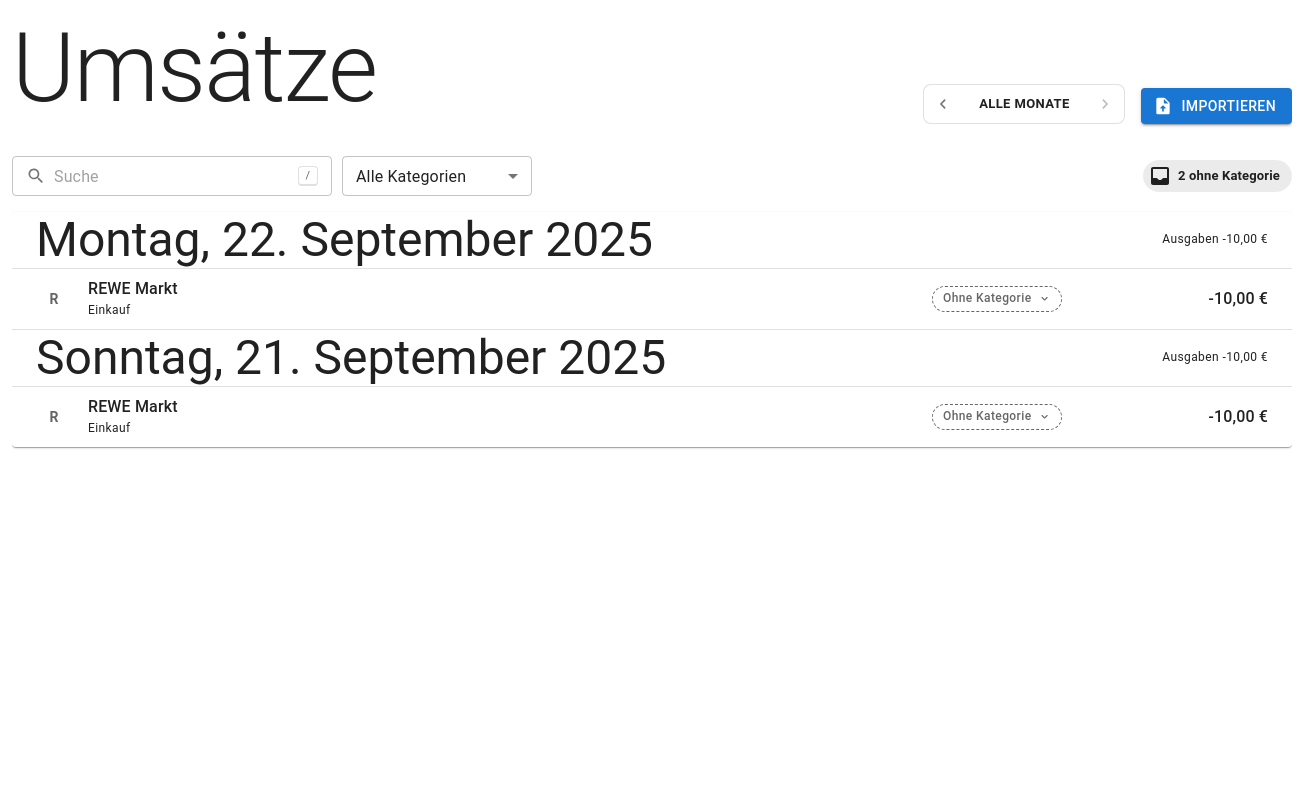
it: TransactionsPage, „Immer so“ › offers the payee as a rule once the pick is saved, then the run it would make
The image size is (1304, 812).
Expected: the dropdown named "Kategorie filtern" is shown, [356,166,466,186]
Click the button with aria-label "Kategorie: Ohne Kategorie": coordinates (997, 299) [932,286,1062,312]
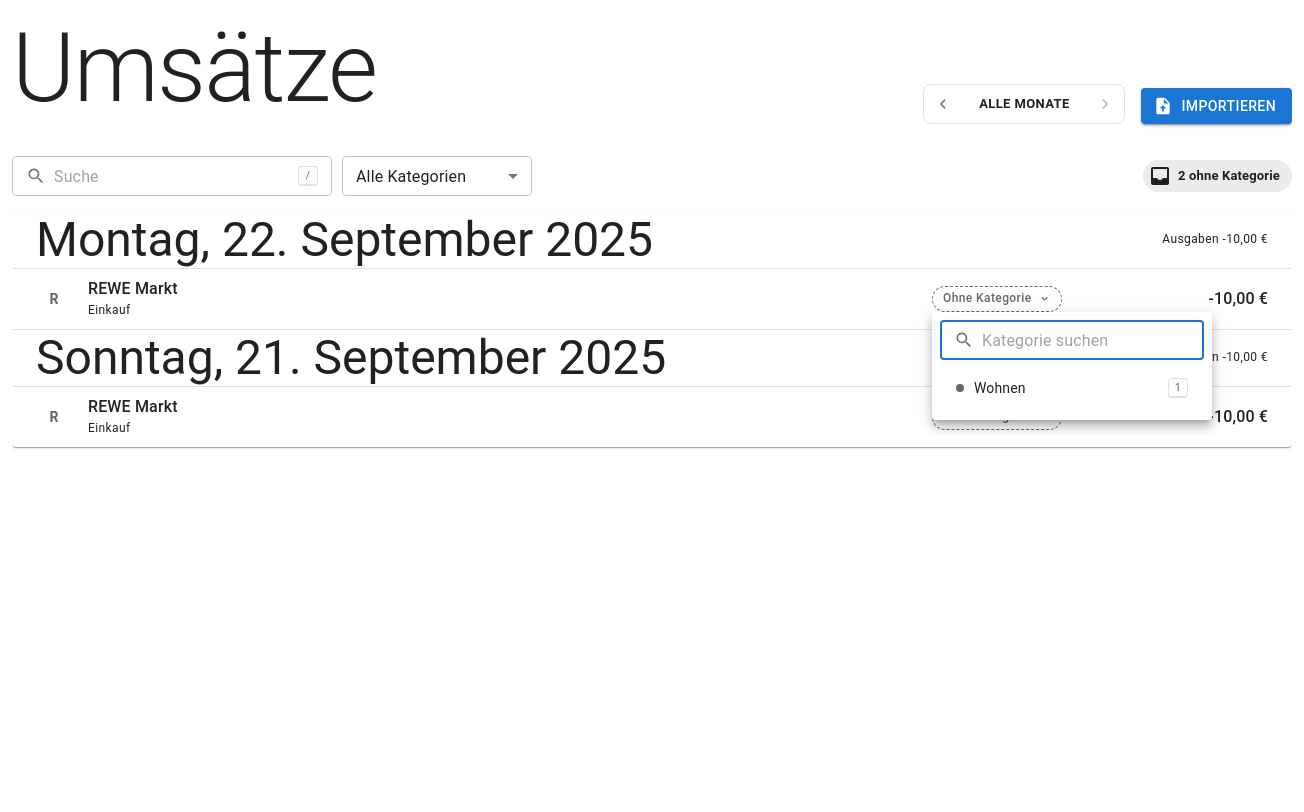
Click the menu item "Wohnen 1": coordinates (1000, 388) [940,372,1204,404]
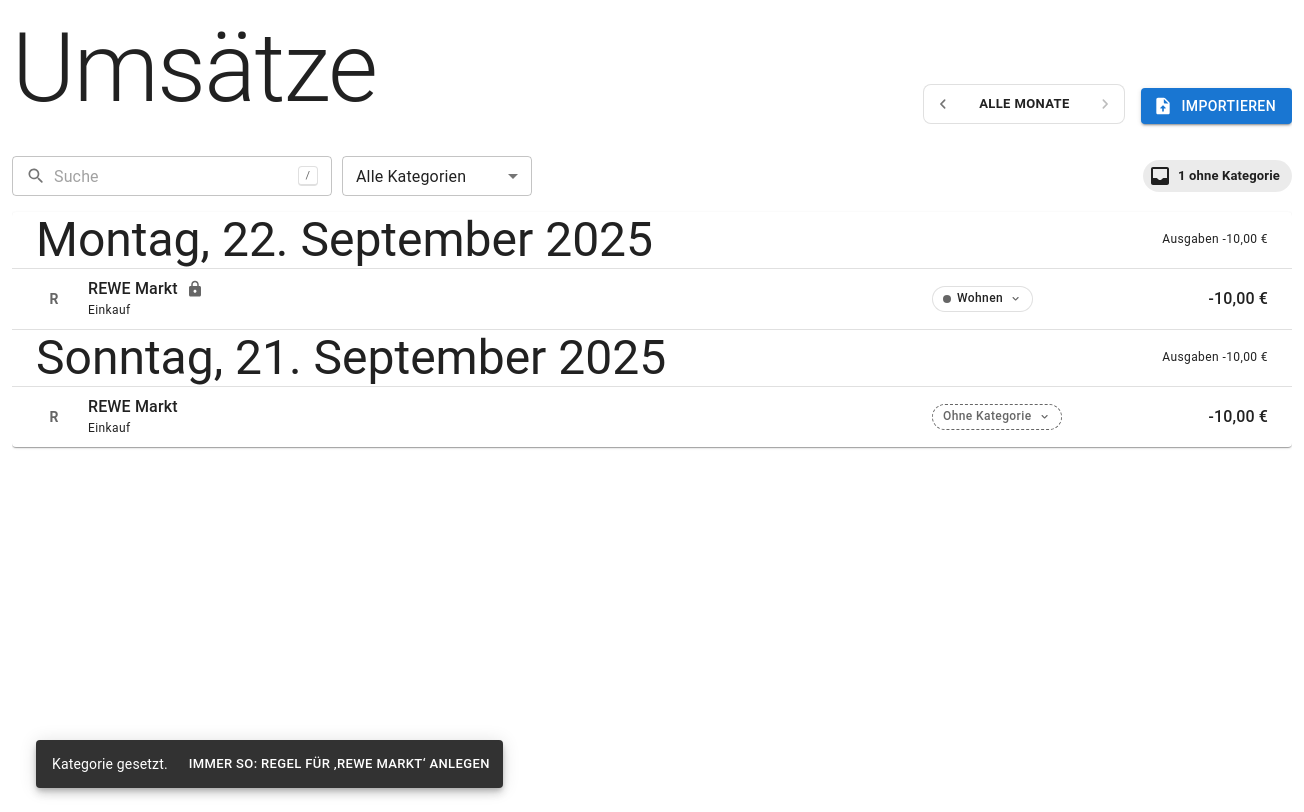
Result: the text "Kategorie gesetzt." is shown at [52,756,168,772]
Click the button "Immer so: Regel für ‚REWE Markt‘ anlegen": coordinates (339, 764) [184,749,495,779]
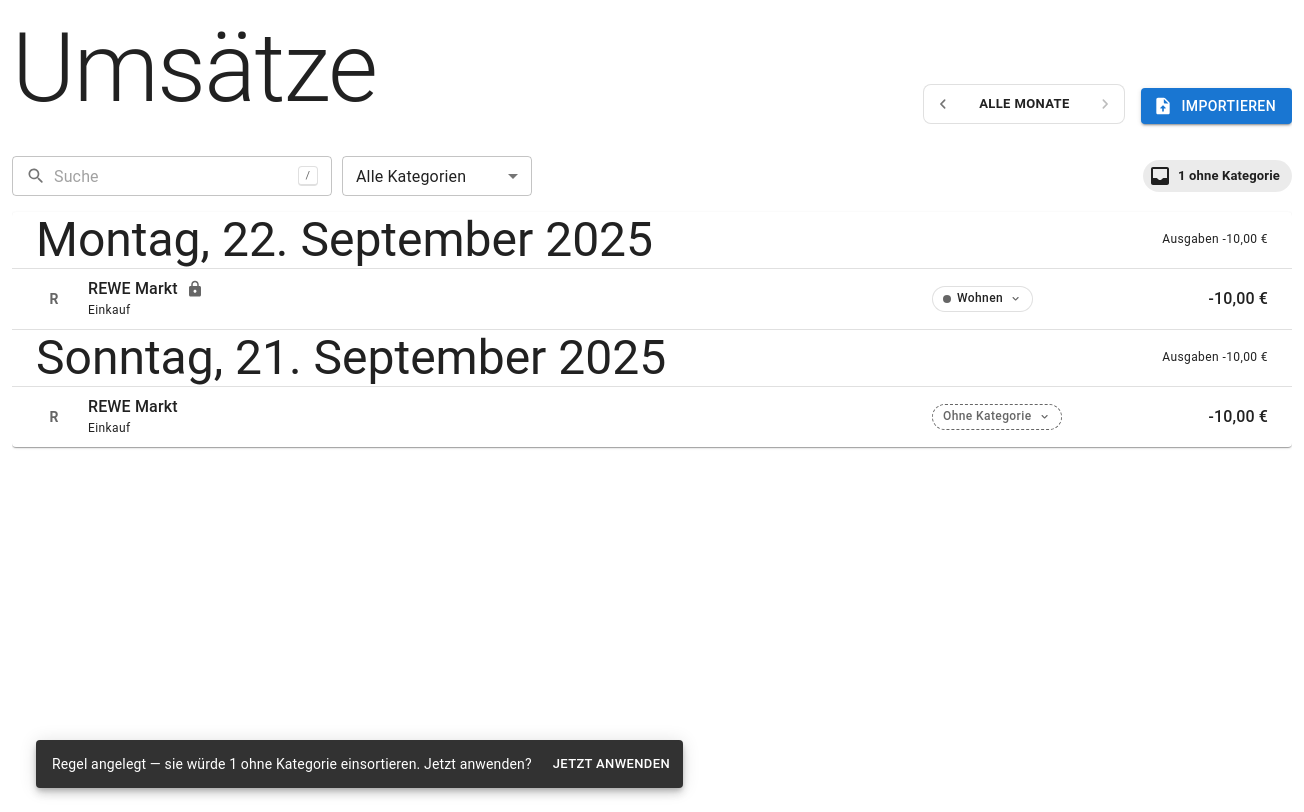
Result: the text "Regel angelegt — sie würde 1 ohne Kategorie einsortieren. Jetzt anwenden?" is shown at [52,756,532,772]
Click the button "Jetzt anwenden": coordinates (611, 764) [548,749,675,779]
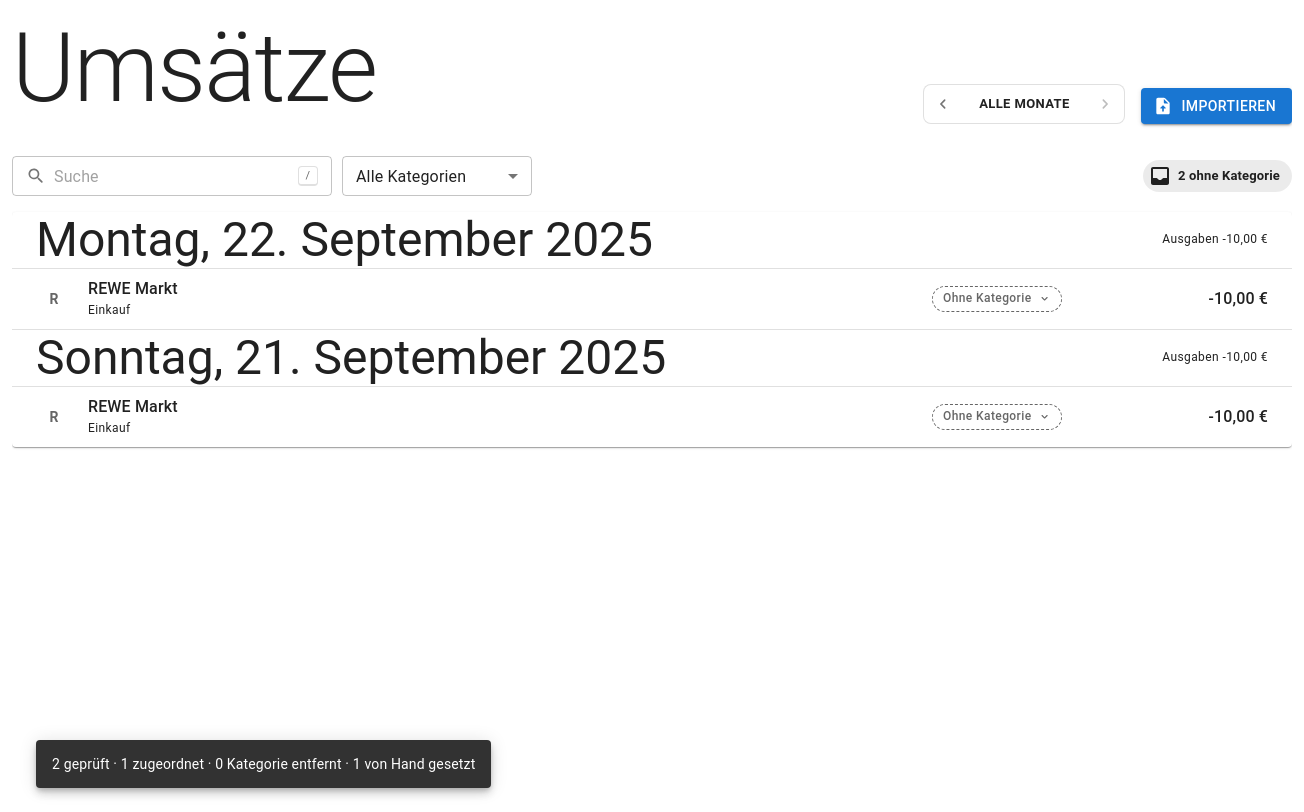
Result: the text "1 zugeordnet" is shown at [52,756,475,772]
